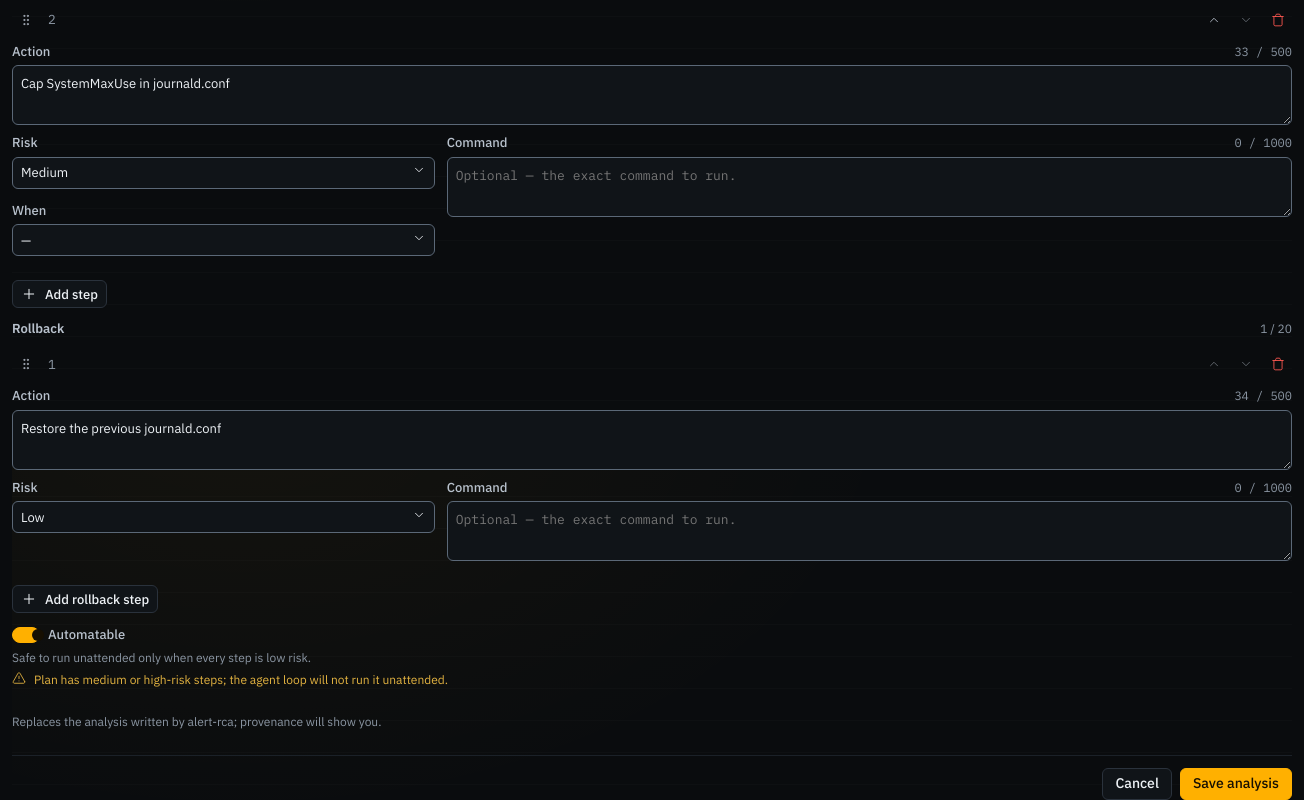
Test case: AnalysisEditor › banners a 422 whose path no control can show, instead of failing silently
This screenshot has width=1304, height=800.
(page scrolled)
Step 1. Click the button "Save analysis" → x=1236, y=784, box [1180, 768, 1292, 799]
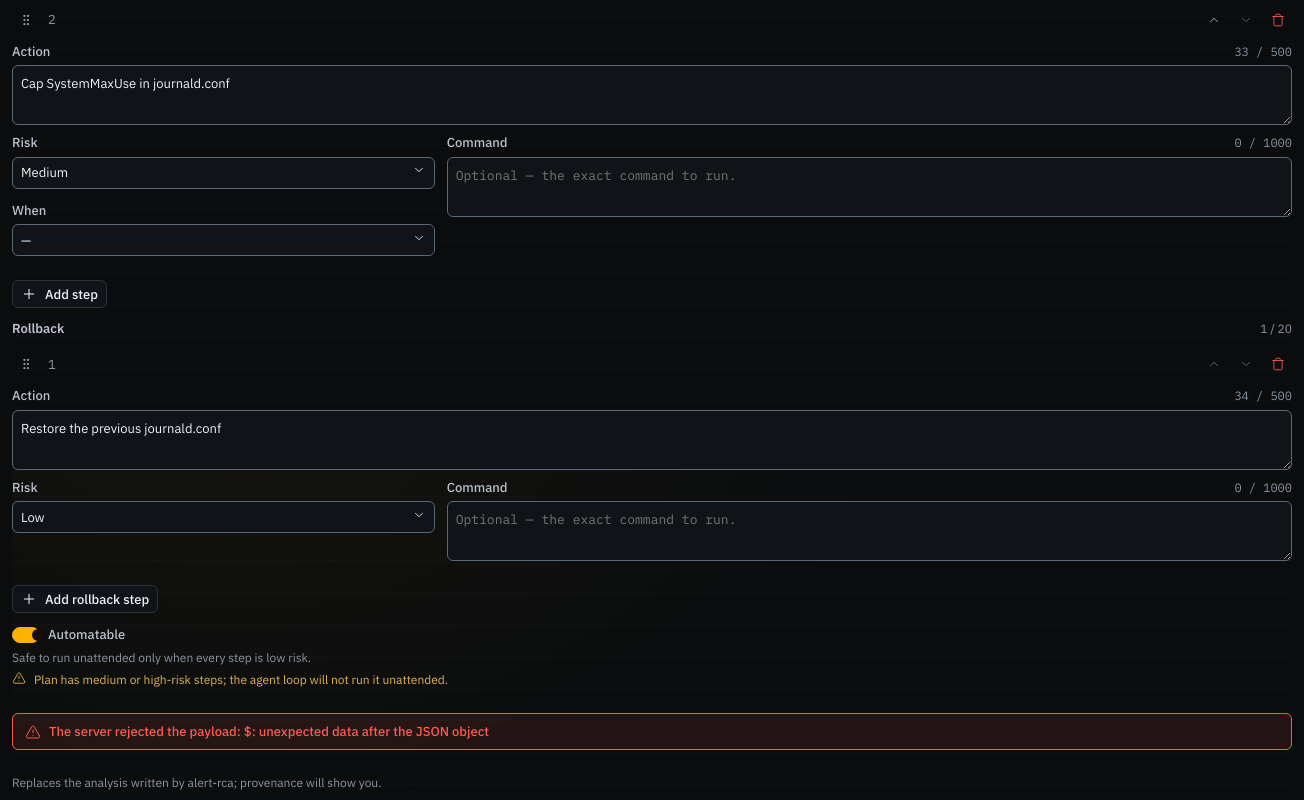
Check: the text "The server rejected the payload: $: unexpected data after the JSON object" is shown, box [49, 722, 489, 741]
